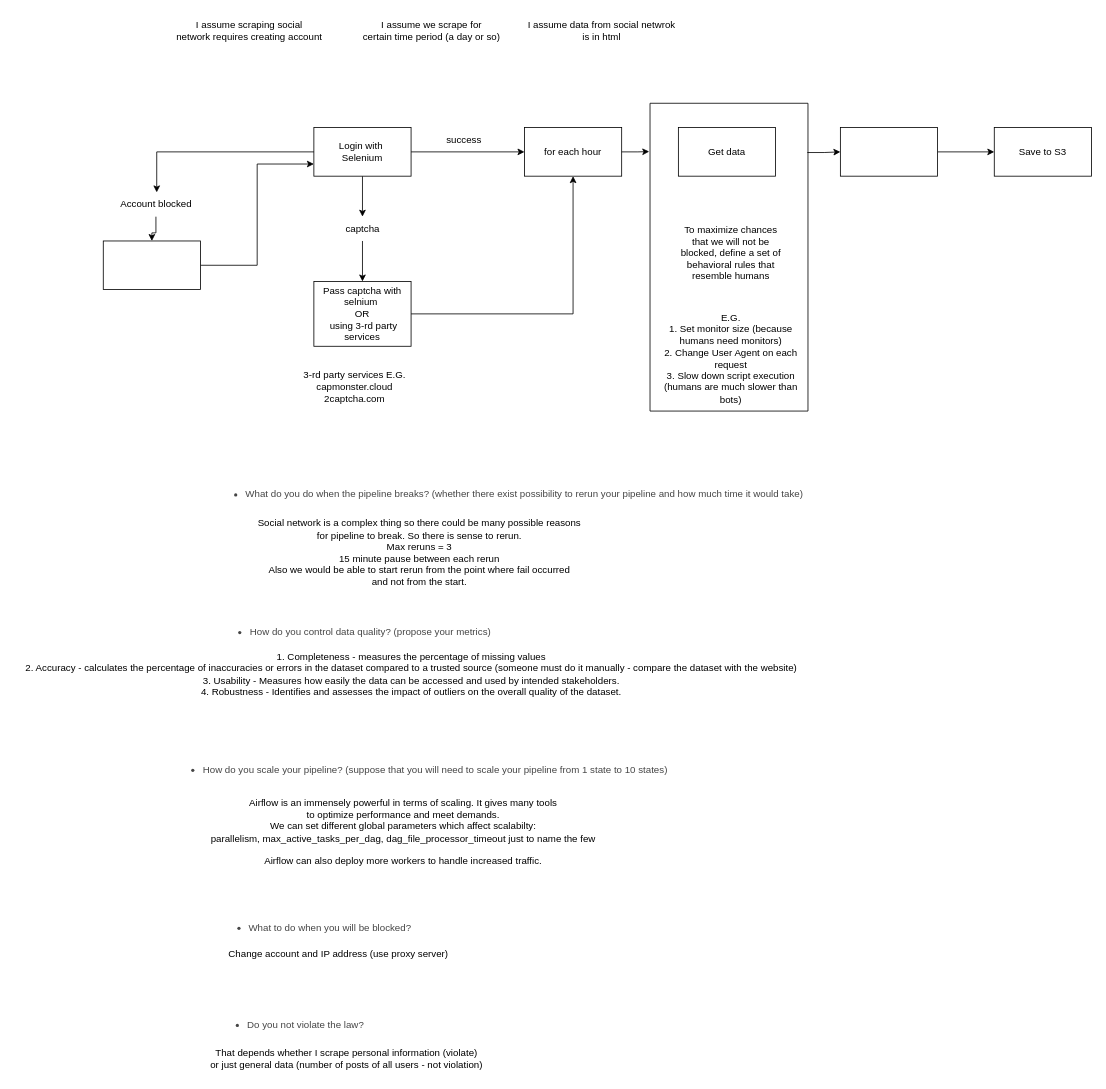
This 1106x1089 diagram has some shape labels left out. The shapes that lost their labels are listed below. From the top down, each one's box as (x1, y1, x2, y2) in pixels, then its label:
(840, 127, 938, 176): Extract data of interest if necessary
(102, 240, 200, 290): try another account created before hand
